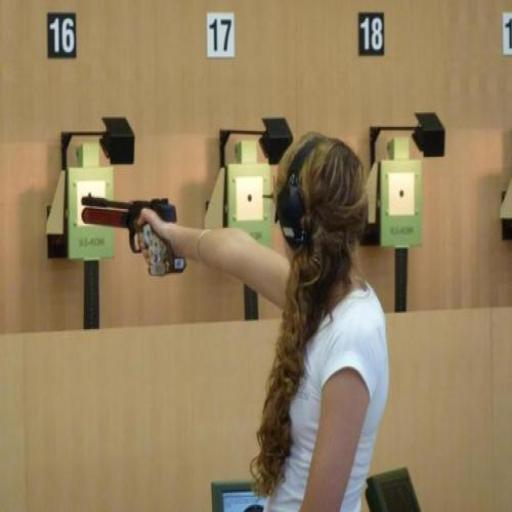shooting: (132, 130, 393, 510)
